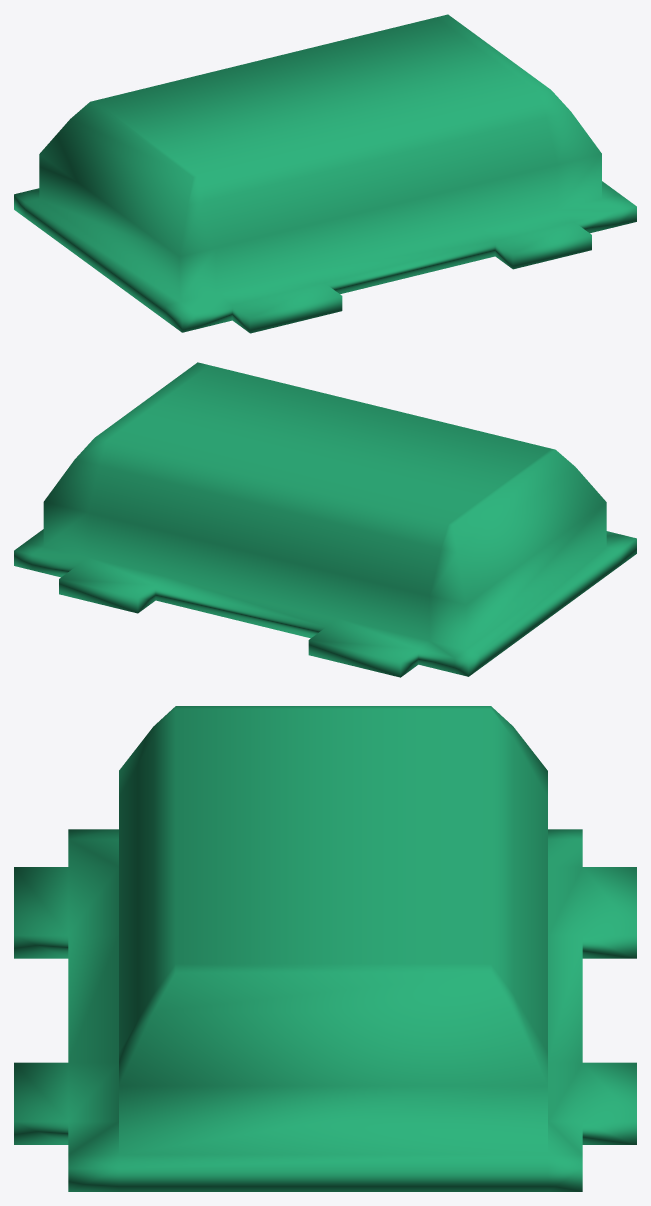
Rendered from Light.fbx.
3 renders of one model, top to bottom at view 1: azimuth 30°, elevation 25°; view 2: azimuth 150°, elevation 25°; view 3: azimuth 270°, elevation 25°, orthographic. The views are drawn at different scales.
Parts seen in each view (by area): view 1: Light:Box001; view 2: Light:Box001; view 3: Light:Box001.
Part boxes in pixels (left/top/right/bottom): Light:Box001: left=14, top=14, right=636, bottom=333; Light:Box001: left=14, top=362, right=636, bottom=677; Light:Box001: left=14, top=706, right=636, bottom=1191.
Bounding box in the file's own units: 9.04 × 2.25 × 7.02.
